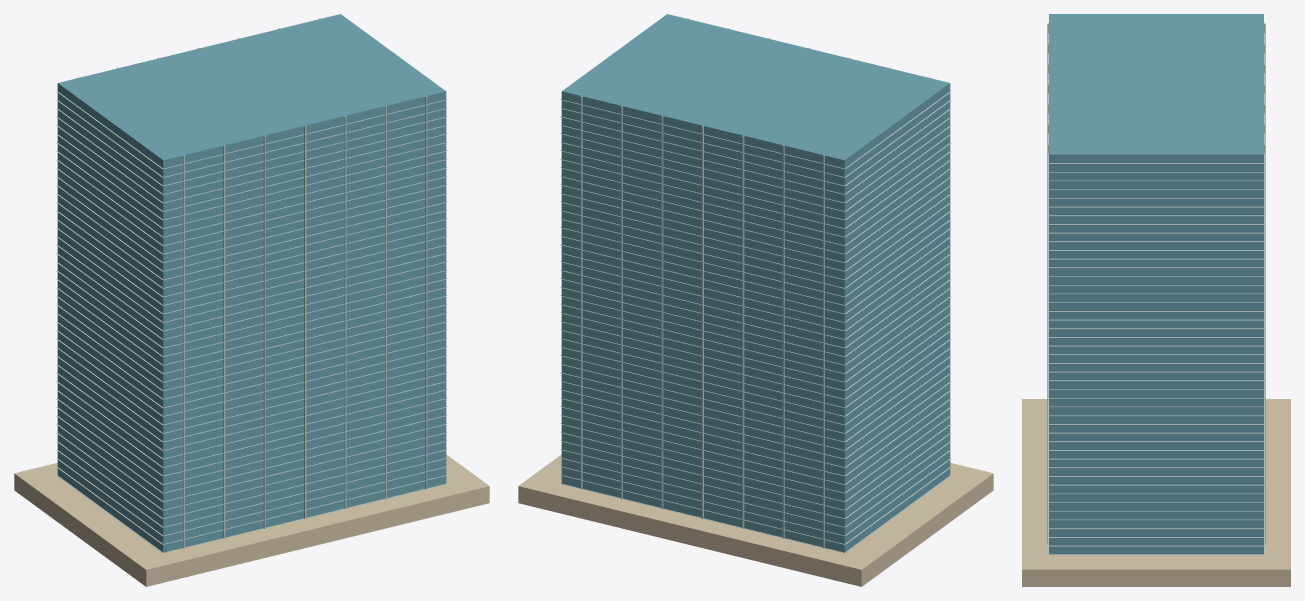
File: foxconn-building.glb
3 renders of one model, left to right at view 1: azimuth 30°, elevation 25°; view 2: azimuth 150°, elevation 25°; view 3: azimuth 270°, elevation 25°, orthographic.
Visible parts, largest first — view 1: foxconn-building; view 2: foxconn-building; view 3: foxconn-building.
Part boxes in pixels (bbox=[...]): foxconn-building: bbox=[14, 14, 489, 586]; foxconn-building: bbox=[518, 14, 993, 586]; foxconn-building: bbox=[1022, 14, 1290, 586].
Bounding box in the file's own units: 62.66 × 71.4 × 41.7.
